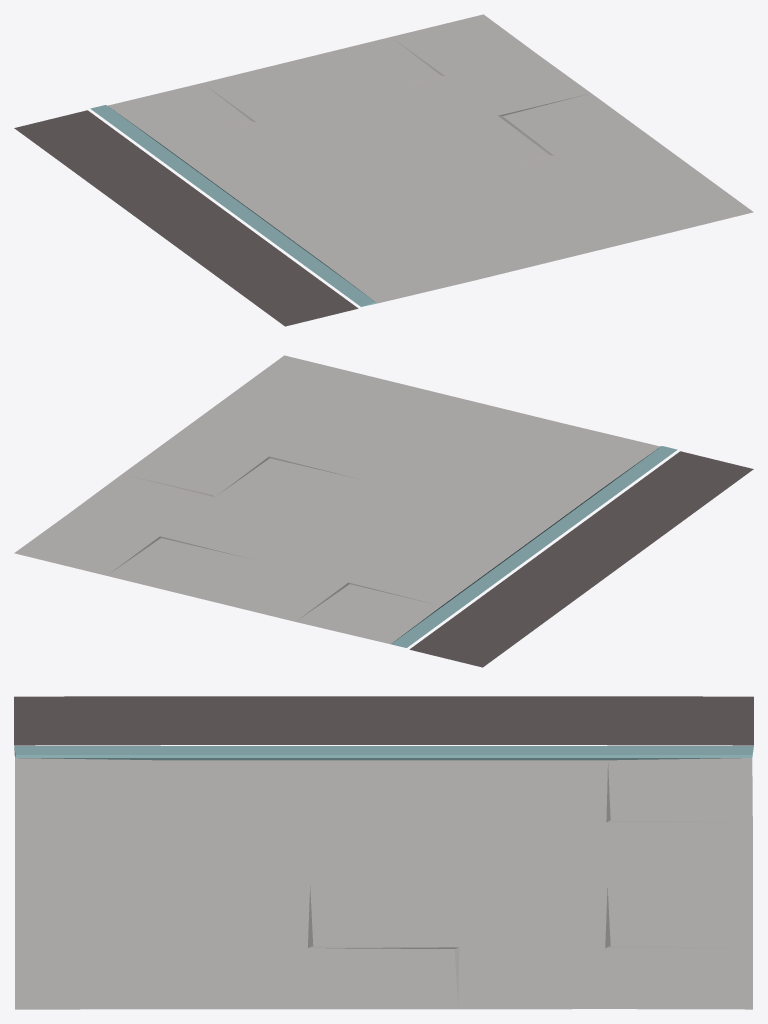
File: Qmf5w9hJJbxyLvL5r7SjJeVgWJEZ4Xwb76ShWenwVZuSVt_lod2.fbx
3 renders of one model, top to bottom at view 1: azimuth 30°, elevation 25°; view 2: azimuth 150°, elevation 25°; view 3: azimuth 270°, elevation 25°, orthographic. The views are drawn at different scales.
Parts seen in each view (by area): view 1: Entity_512; view 2: Entity_512; view 3: Entity_512.
Part boxes in pixels (x1,y1,x2,y2): Entity_512: (14, 14, 753, 326); Entity_512: (14, 355, 753, 667); Entity_512: (14, 696, 753, 1009).
Bounding box in the file's own units: 15907 × 70.6 × 15923.
Materials: 1 (1 with a texture image).
